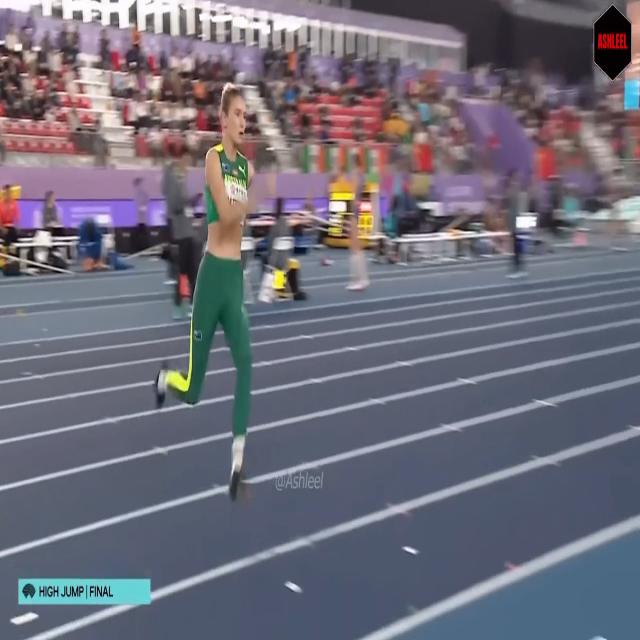run: (149, 82, 255, 503)
